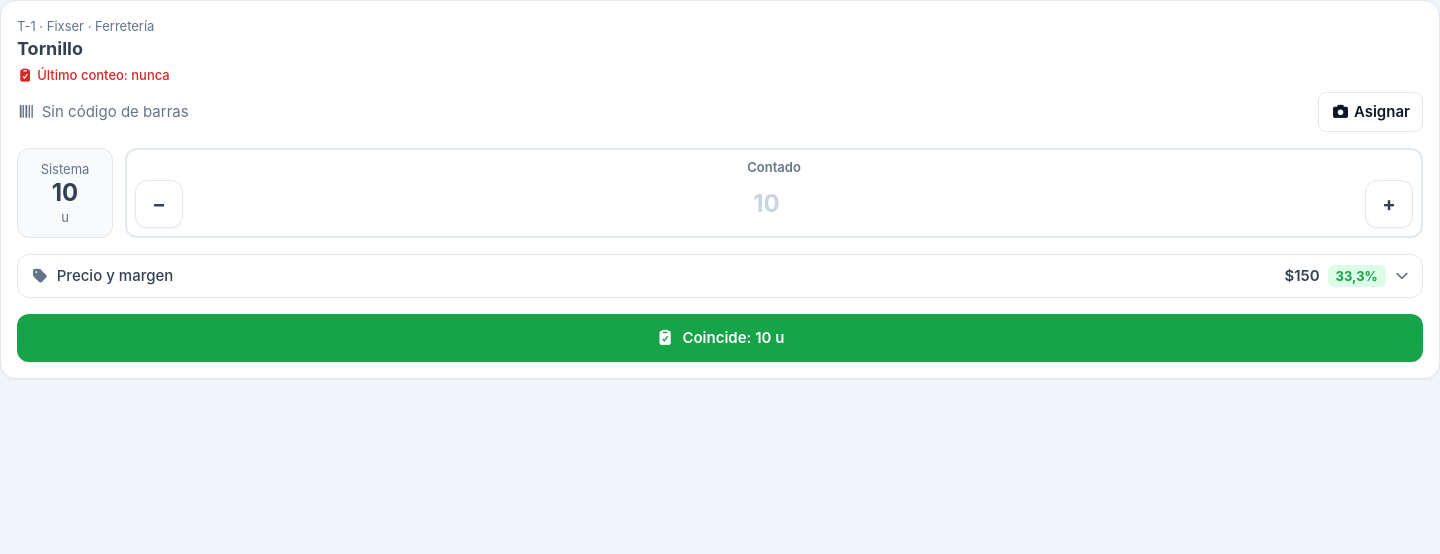
Test: components/ProductoCard › sincronización costo ↔ venta (ganancia como markup, igual que amproducto.php) › al cambiar el costo, recalcula la venta manteniendo la ganancia actual
Click the button "Precio y margen $150 33,3%" at [115, 276], box [18,255,1422,297]
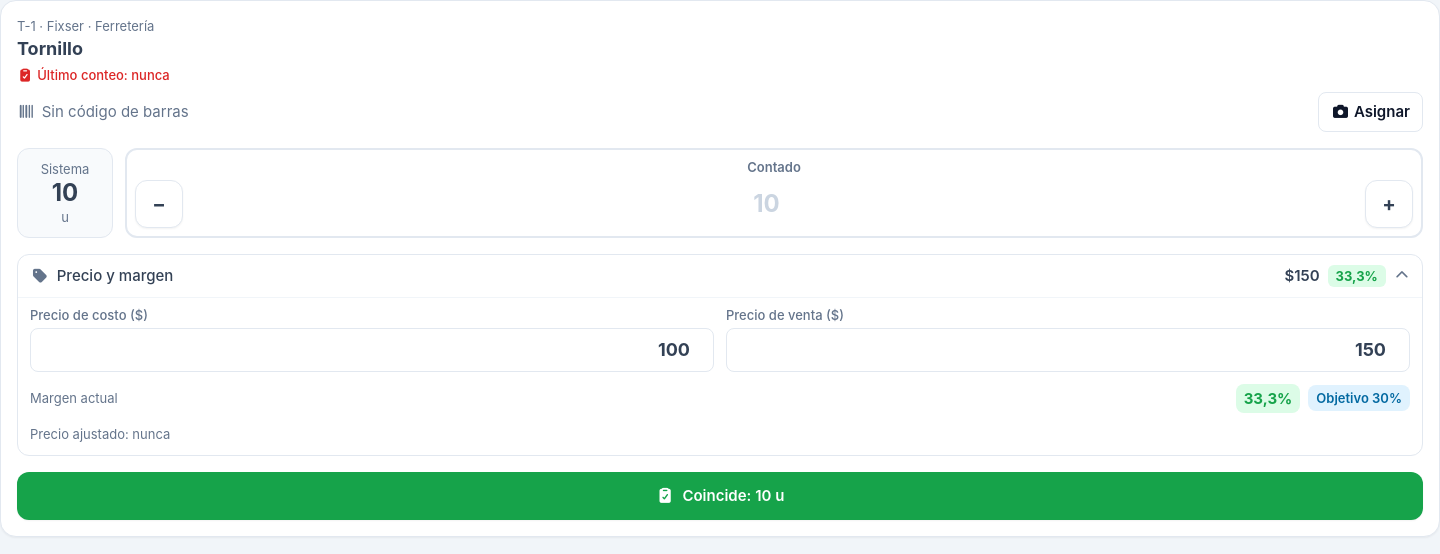
Replace the text in the number field named "Precio de costo" with "200" at [372, 350], box [30,328,714,372]
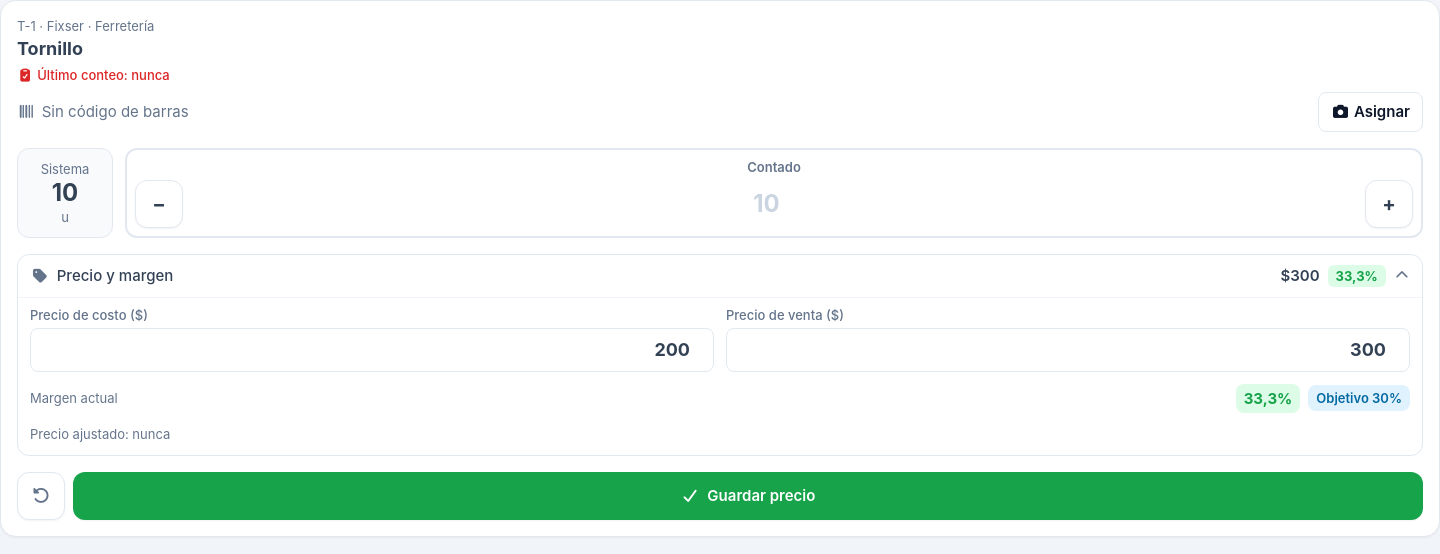
Check: the number field named "Precio de venta" holds "300", box [726,328,1410,372]
